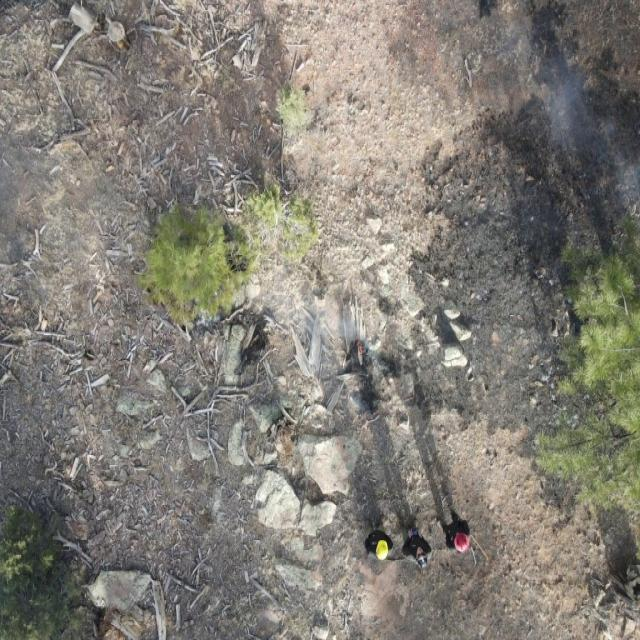fire: (351, 335, 368, 363)
smoke: (0, 0, 172, 366), (459, 0, 640, 222), (224, 228, 448, 374)
